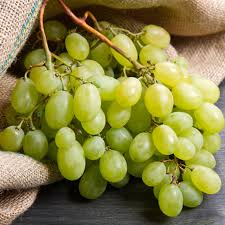Green grapes: (105, 27, 223, 211), (17, 34, 129, 200)
